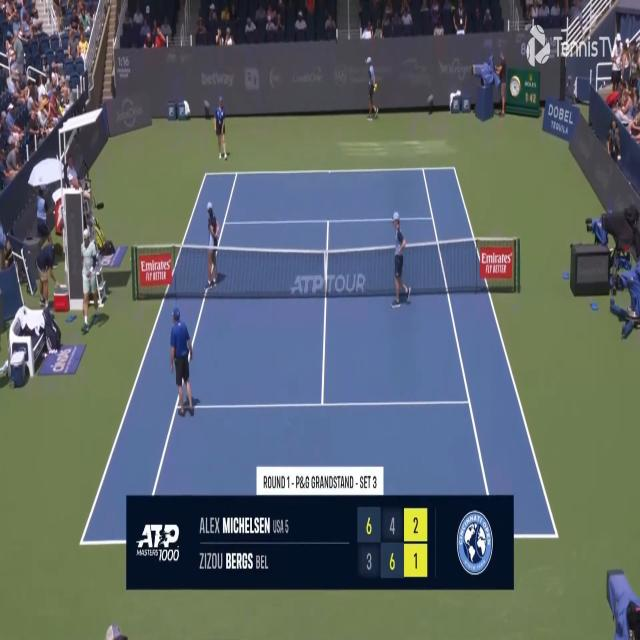tennis-player: (79, 225, 100, 336)
